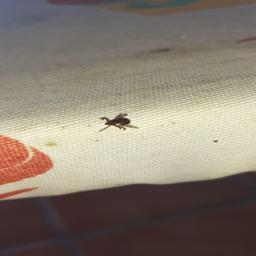Rhipicephalus sanguineus: (99, 113, 139, 132)
